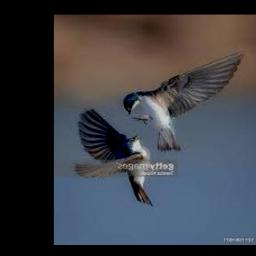Swallow: (123, 50, 245, 151), (75, 109, 153, 205)
